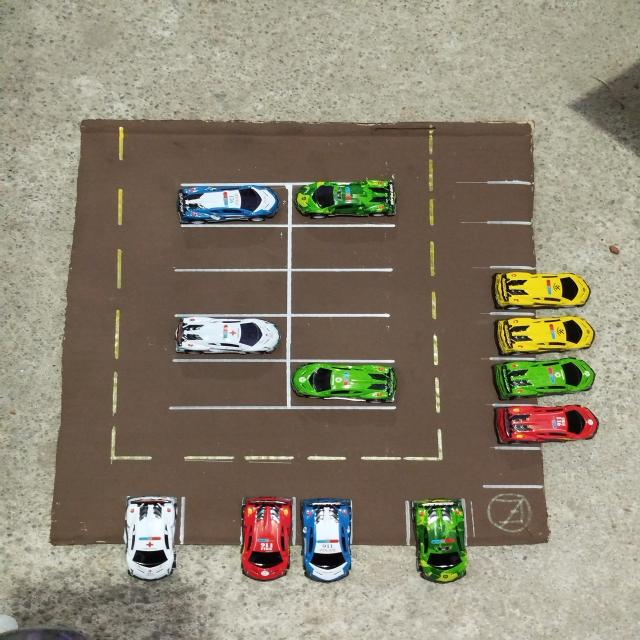libre: (167, 360, 289, 408), (171, 268, 289, 315), (174, 222, 286, 269), (289, 314, 396, 361), (48, 488, 127, 548), (287, 226, 393, 269), (290, 270, 392, 313), (184, 492, 248, 551), (351, 497, 407, 557), (479, 220, 543, 267), (480, 444, 546, 489), (474, 183, 544, 222)
no_estacionarse: (478, 485, 552, 550)
ocupado: (168, 316, 288, 360), (289, 360, 398, 408), (175, 183, 290, 226), (289, 184, 398, 225), (406, 496, 474, 556), (126, 488, 183, 554), (487, 355, 558, 403), (297, 493, 351, 556), (485, 312, 555, 358), (486, 266, 556, 312), (245, 492, 292, 551), (484, 404, 546, 448)
